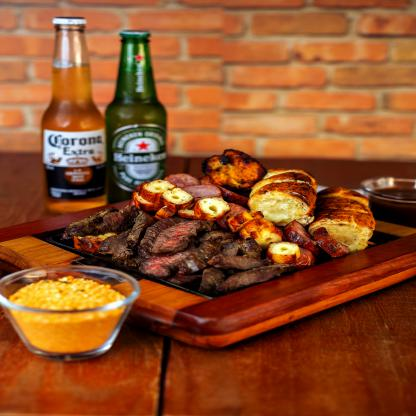Carne: (64, 200, 145, 244), (143, 213, 210, 257), (227, 258, 289, 296), (110, 212, 158, 257), (136, 243, 189, 280), (186, 227, 226, 272), (211, 241, 271, 270)
